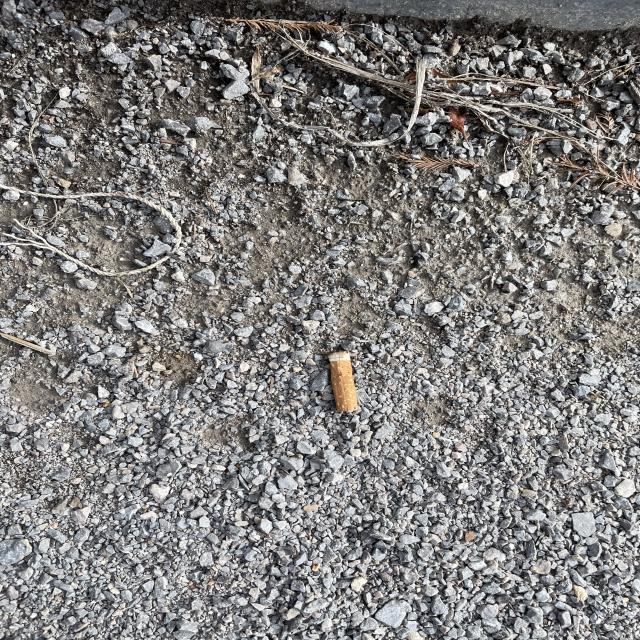cigarette: (305, 341, 385, 432)
trash-zQNu: (307, 344, 377, 430)
